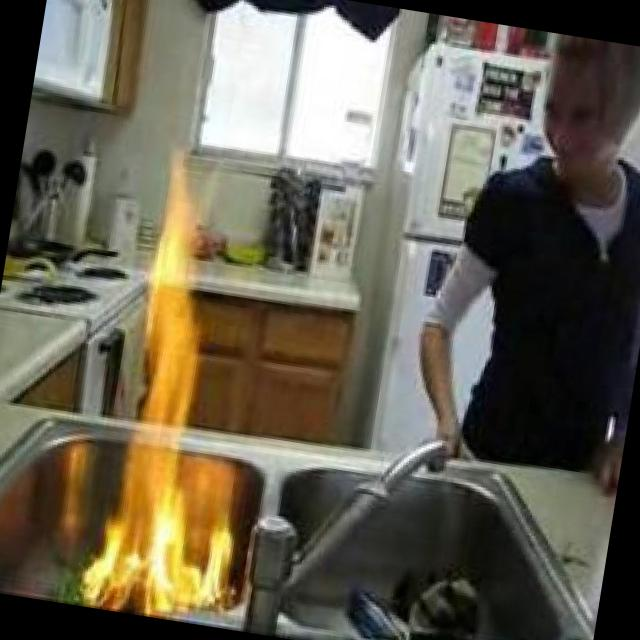Fire: (80, 143, 298, 629)
